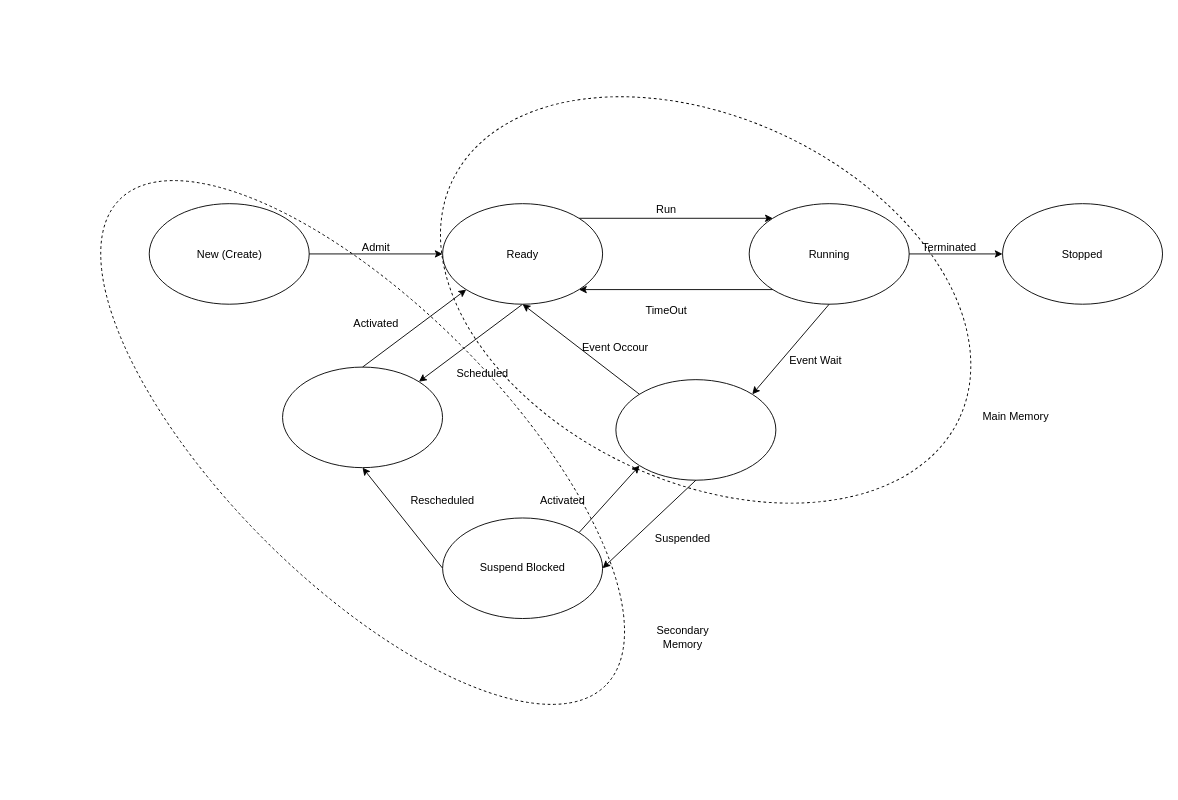
This 1178x800 diagram has some shape labels left out. Each missing label, with the centre of its shape:
"Blocked" belongs at [695,429].
"Suspend Ready" belongs at [362,417].
